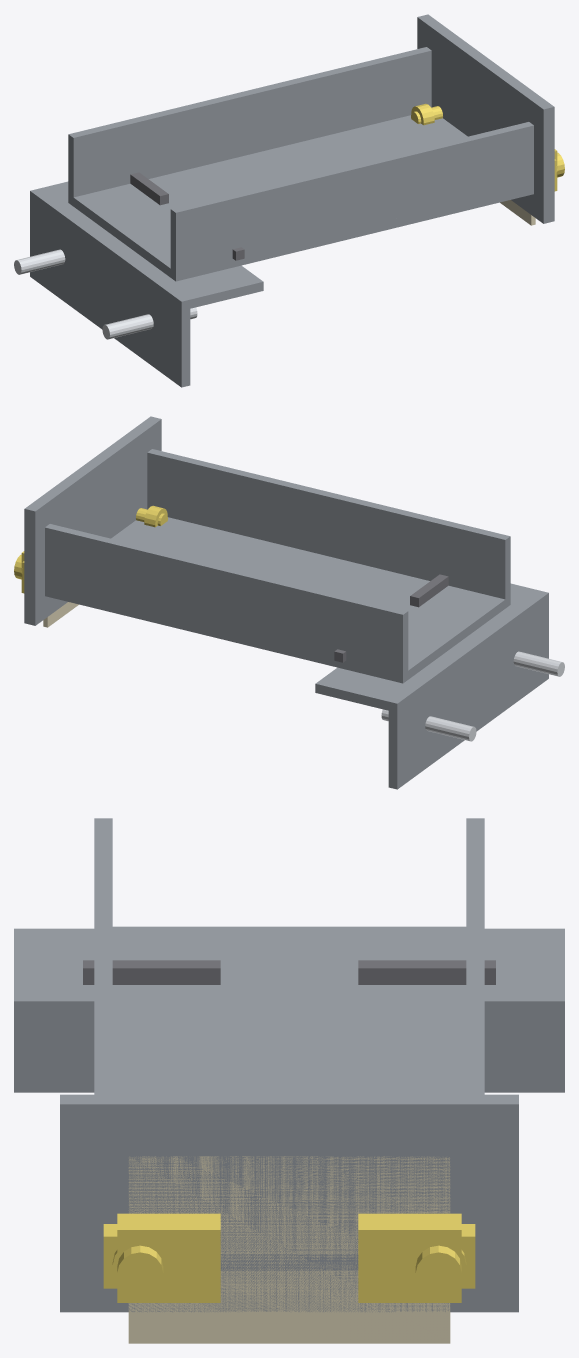
File: rail_bracket.glb
3 views of the same model, one above another, from view 1: azimuth 30°, elevation 25°; view 2: azimuth 150°, elevation 25°; view 3: azimuth 270°, elevation 25° (orthographic). The views are drawn at different scales.
Visible parts, largest first — view 1: Bkt2_SideRib_1, Bkt2_SideRib_-1, Bkt2_BottomPlate, Bkt1_VertFlange, Bkt2_FrontFacePlate, Bkt1_HorizFlange, Anchor_Stud_1, Anchor_Stud_-1, Weld_Bead_Left; view 2: Bkt2_SideRib_-1, Bkt2_SideRib_1, Bkt2_BottomPlate, Bkt1_VertFlange, Bkt2_FrontFacePlate, Bkt1_HorizFlange, Anchor_Stud_-1, Anchor_Stud_1, Weld_Bead_Right; view 3: Bkt2_FrontFacePlate, Bkt2_BottomPlate, Shim_Liner_Pack, Bkt1_HorizFlange, Bkt1_VertFlange, RailClip_Body_1, RailClip_Body_-1, Bkt2_SideRib_1, Bkt2_SideRib_-1, Weld_Bead_Left, Weld_Bead_Right, ClipBolt_Head_1 (+3 smaller).
Part boxes in pixels (x1,y1,x2,y2): Bkt2_SideRib_1: (170,122,533,281); Bkt2_SideRib_-1: (68,47,431,202); Bkt2_BottomPlate: (68,115,533,281); Bkt1_VertFlange: (30,188,190,387); Bkt2_FrontFacePlate: (417,14,554,223); Bkt1_HorizFlange: (39,181,263,310); Anchor_Stud_1: (102,307,197,339); Anchor_Stud_-1: (14,249,65,274); Weld_Bead_Left: (130,172,168,205); Bkt2_SideRib_-1: (45,524,408,682); Bkt2_SideRib_1: (147,449,510,604); Bkt2_BottomPlate: (45,517,510,683); Bkt1_VertFlange: (388,590,548,789); Bkt2_FrontFacePlate: (24,416,161,625); Bkt1_HorizFlange: (315,583,539,712); Anchor_Stud_-1: (381,709,476,741); Anchor_Stud_1: (513,651,564,676); Weld_Bead_Right: (410,574,448,607); Bkt2_FrontFacePlate: (60,1094,518,1312); Bkt2_BottomPlate: (94,926,484,1270); Shim_Liner_Pack: (128,1156,450,1343); Bkt1_HorizFlange: (14,928,564,1017); Bkt1_VertFlange: (14,928,564,1092); RailClip_Body_1: (117,1213,220,1302); RailClip_Body_-1: (358,1213,461,1302); Bkt2_SideRib_1: (94,818,112,1270); Bkt2_SideRib_-1: (466,818,484,1269); Weld_Bead_Left: (358,960,495,984); Weld_Bead_Right: (83,960,220,984); ClipBolt_Head_1: (117,1245,163,1293).
Bounding box in the file's own units: 0.4165 × 0.155 × 0.24.
